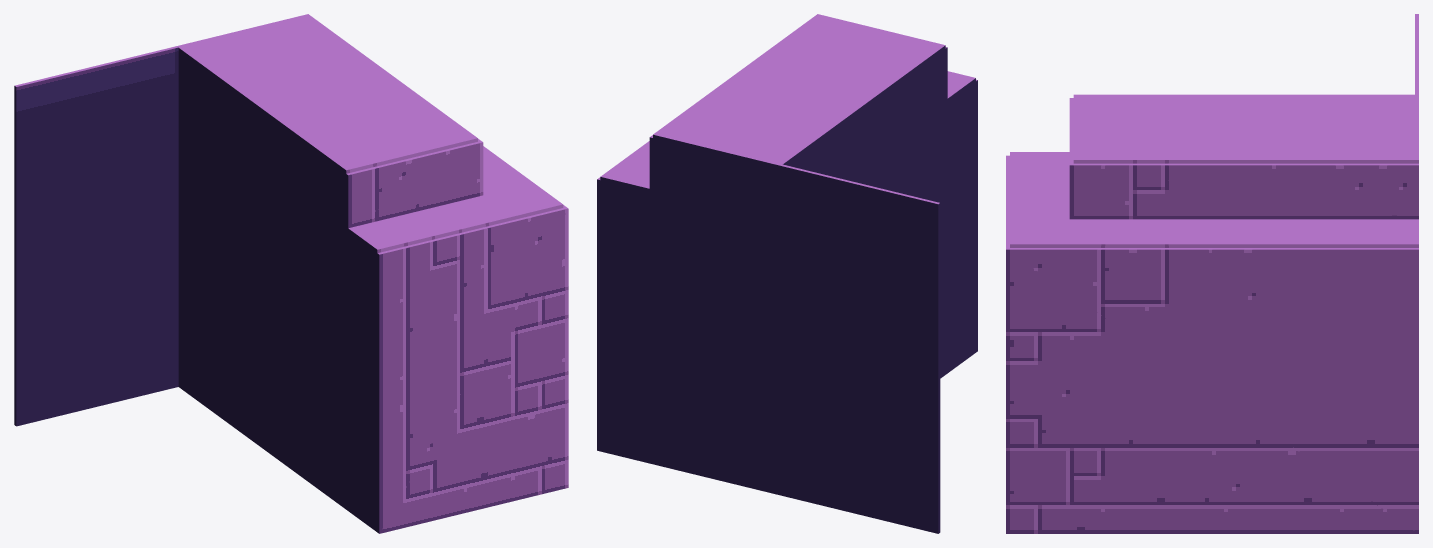
File: obs_dome_dao.fezao.glb
3 renders of one model, left to right at view 1: azimuth 30°, elevation 25°; view 2: azimuth 150°, elevation 25°; view 3: azimuth 270°, elevation 25°, orthographic. The views are drawn at different scales.
Parts seen in each view (by area): view 1: OBS_DOME_DAO; view 2: OBS_DOME_DAO; view 3: OBS_DOME_DAO.
Boxes of the visible parts, bbox=[...] form: OBS_DOME_DAO: bbox=[14, 14, 568, 533]; OBS_DOME_DAO: bbox=[597, 14, 977, 533]; OBS_DOME_DAO: bbox=[1006, 14, 1418, 533].
Bounding box in the file's own units: 6.5 × 6 × 6.5.
Materials: 1 (1 with a texture image).
